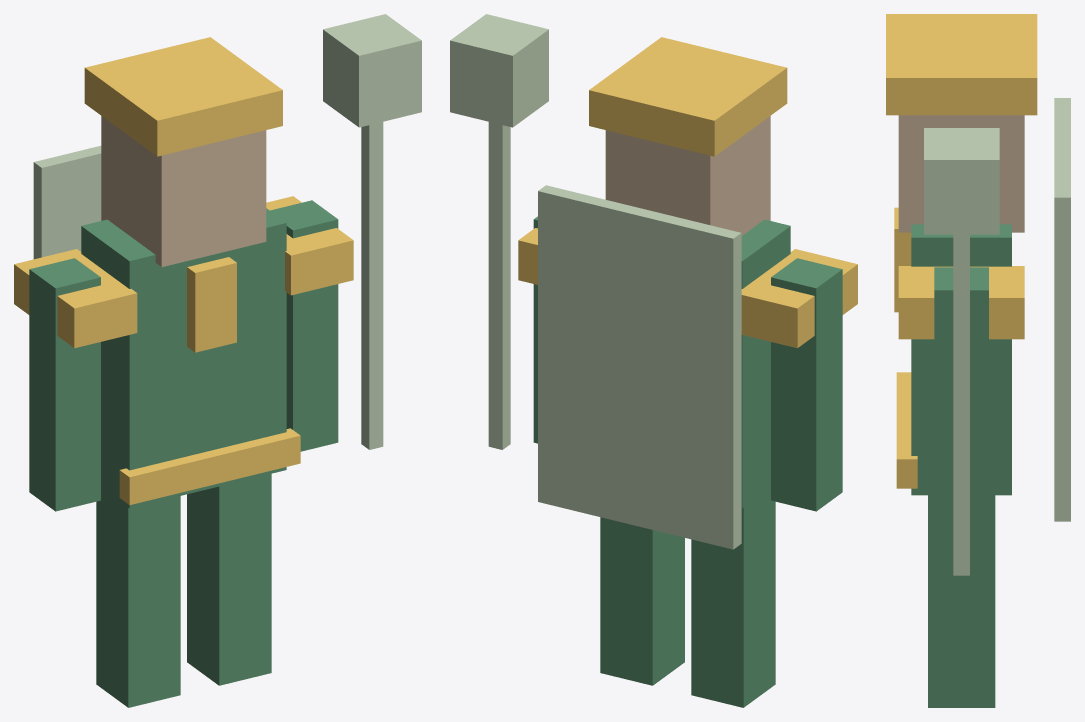
The model's file is 17_cassian_gearmantle_watcher_at_bridge.glb.
The picture shows the model from 3 angles, left to right: view 1: azimuth 30°, elevation 25°; view 2: azimuth 150°, elevation 25°; view 3: azimuth 270°, elevation 25°; orthographic projection. The views are drawn at different scales.
Parts seen in each view (by area): view 1: Cassian Gearmantle, Watcher at Bridge; view 2: Cassian Gearmantle, Watcher at Bridge; view 3: Cassian Gearmantle, Watcher at Bridge.
Part boxes in pixels (left/top/right/bottom): Cassian Gearmantle, Watcher at Bridge: left=14, top=14, right=421, bottom=707; Cassian Gearmantle, Watcher at Bridge: left=450, top=14, right=857, bottom=707; Cassian Gearmantle, Watcher at Bridge: left=886, top=14, right=1070, bottom=707.
Size of the model in its own units: 1 by 1.59 by 0.4272.
